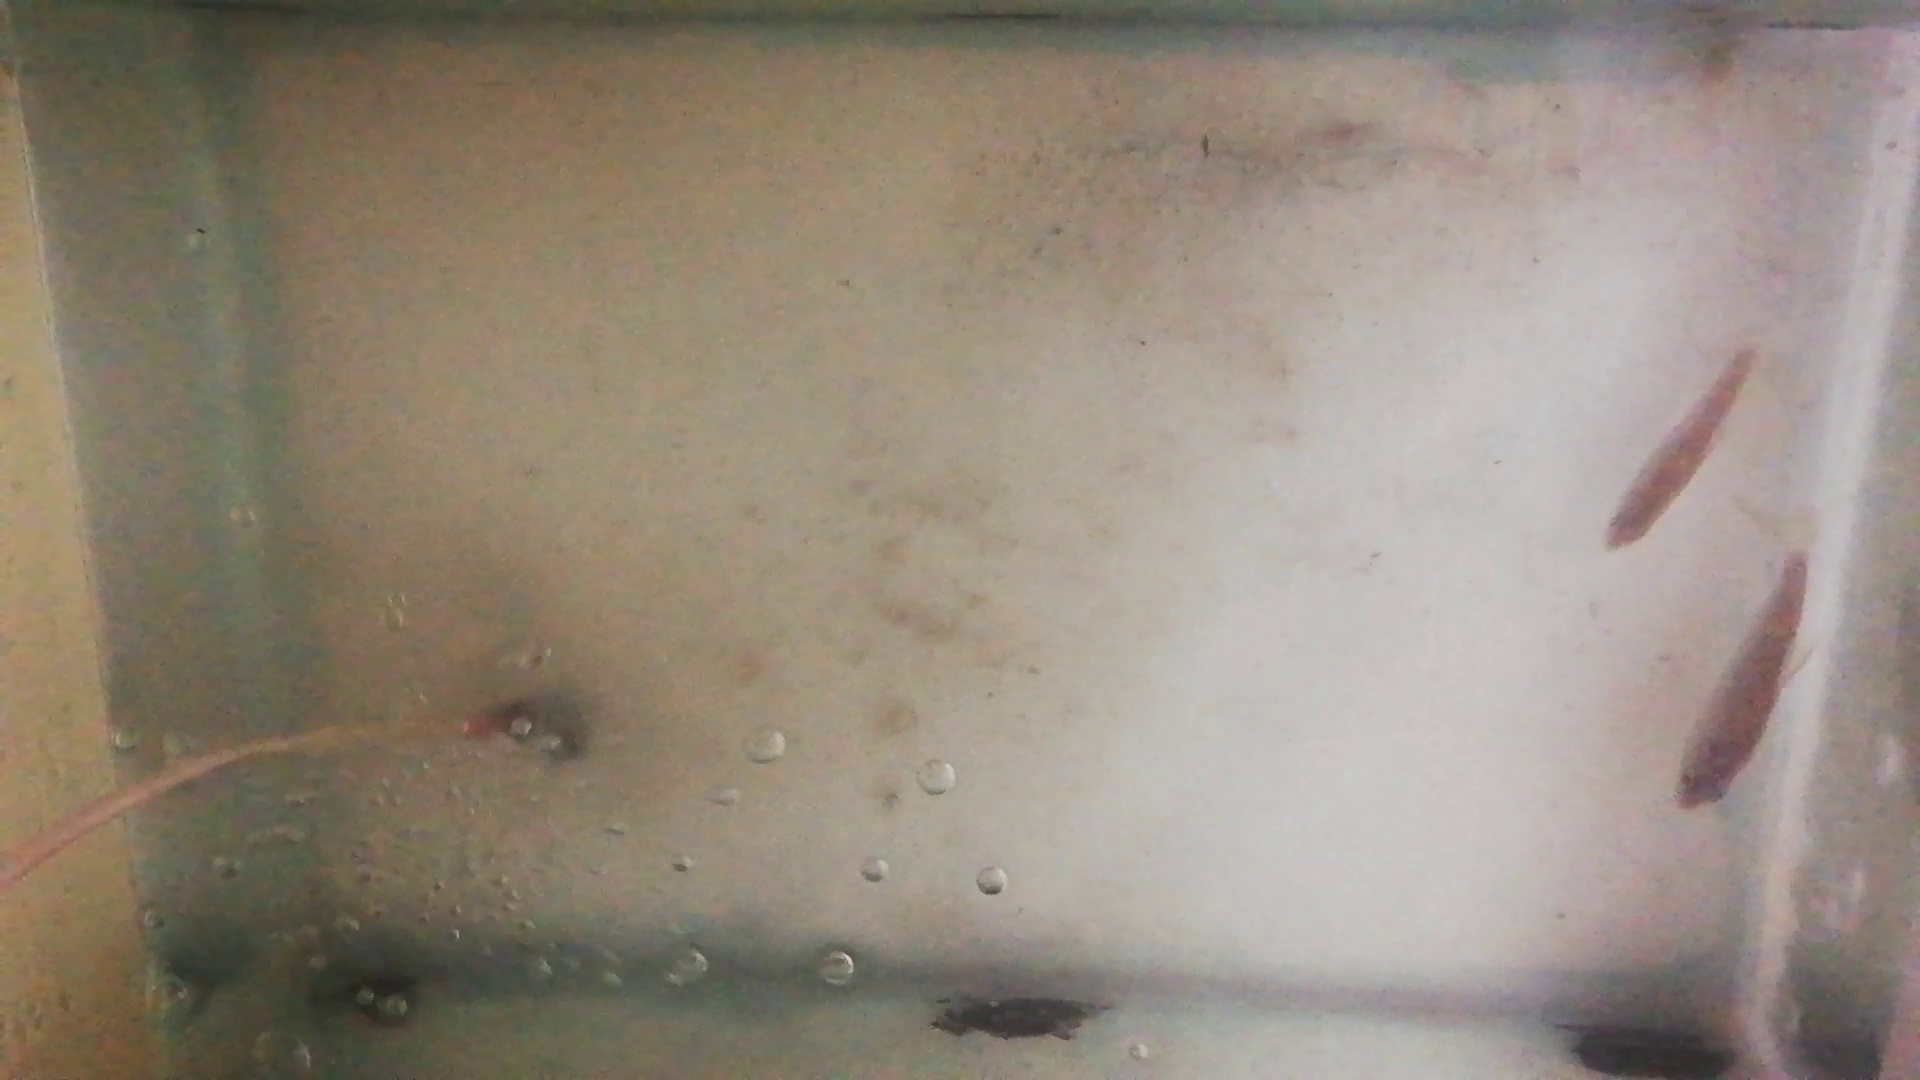fish: (1672, 553, 1816, 810), (1604, 349, 1753, 553)
